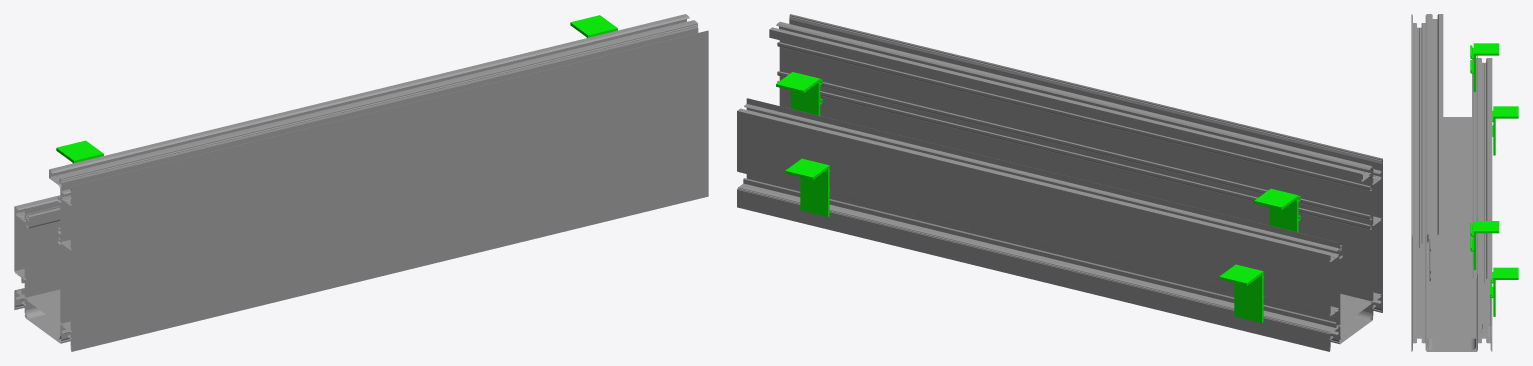
Rendered from frameSize.glb.
3 renders of one model, left to right at view 1: azimuth 30°, elevation 25°; view 2: azimuth 150°, elevation 25°; view 3: azimuth 270°, elevation 25°, orthographic. The views are drawn at different scales.
Visible parts, largest first — view 1: 3DGeom-6, 3DGeom-184 (×2); view 2: 3DGeom-6, 3DGeom-210 (×2), 3DGeom-184 (×2); view 3: 3DGeom-6, 3DGeom-184 (×2), 3DGeom-210 (×2).
Part boxes in pixels (x1,y1,x2,y2): 3DGeom-6: [14, 14, 708, 351]; 3DGeom-184 (×2): [56, 15, 617, 163]; 3DGeom-6: [737, 14, 1382, 351]; 3DGeom-210 (×2): [785, 158, 1264, 323]; 3DGeom-184 (×2): [776, 72, 1300, 232]; 3DGeom-6: [1411, 14, 1492, 351]; 3DGeom-184 (×2): [1470, 43, 1499, 269]; 3DGeom-210 (×2): [1490, 106, 1518, 316].
Bounding box in the file's own units: 0.8159 × 0.2032 × 0.1684.
